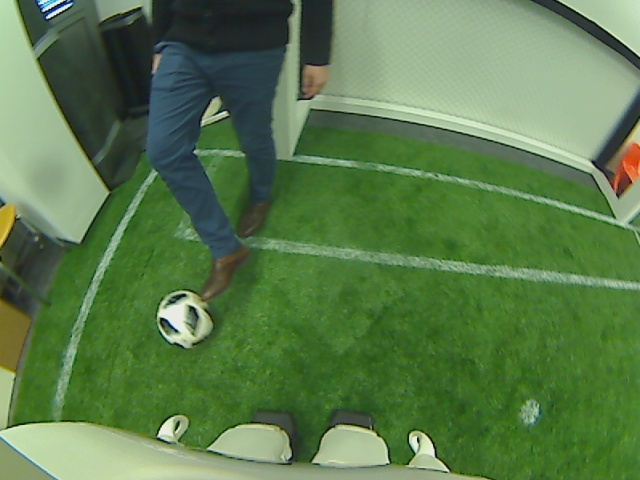ball: (157, 288, 215, 349)
